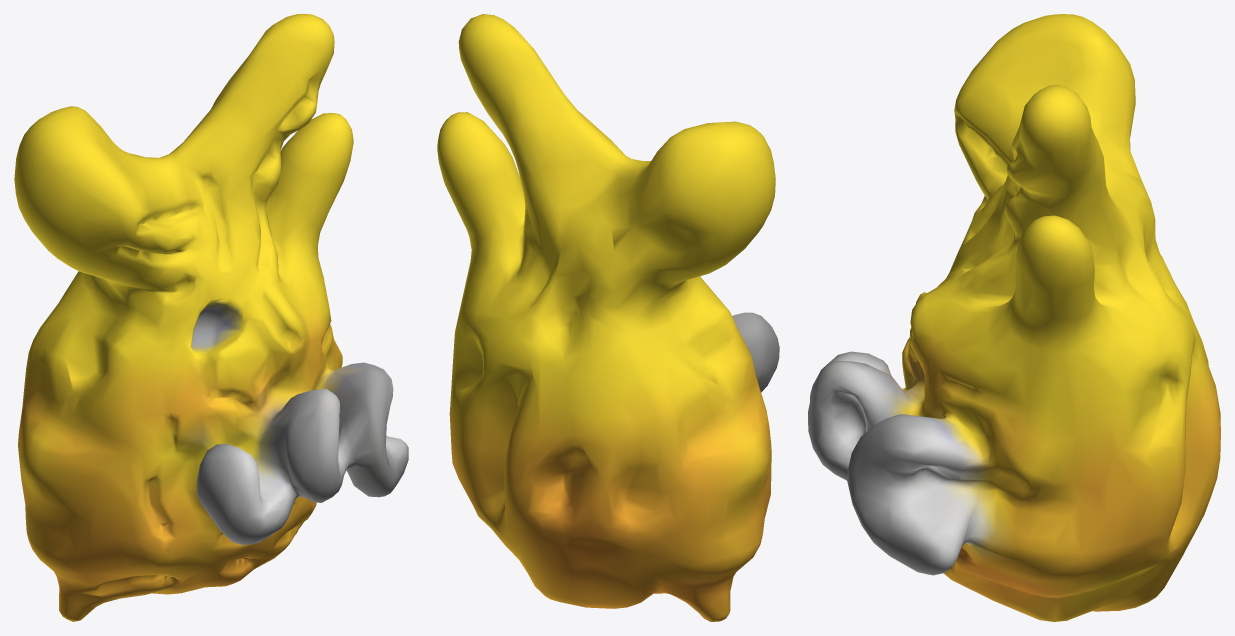
3 renders of one model, left to right at view 1: azimuth 30°, elevation 25°; view 2: azimuth 150°, elevation 25°; view 3: azimuth 270°, elevation 25°, orthographic. The views are drawn at different scales.
Visible parts, largest first — view 1: Group65201; view 2: Group65201; view 3: Group65201.
Part boxes in pixels (bbox=[...]): Group65201: bbox=[14, 14, 408, 621]; Group65201: bbox=[437, 14, 779, 621]; Group65201: bbox=[808, 14, 1220, 621].
Bounding box in the file's own units: 0.0147 × 0.0233 × 0.0147.
1 material, 1 textured.
